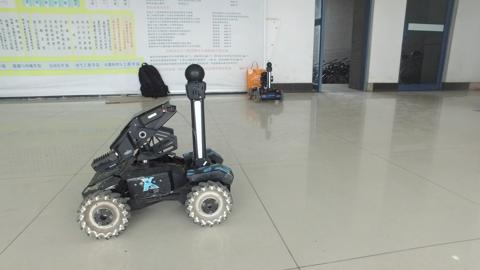bag: (130, 60, 177, 98)
chariot: (70, 58, 244, 245), (241, 53, 287, 111)
